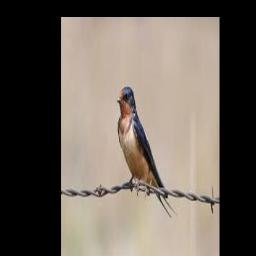Swallow: (116, 87, 177, 216)
